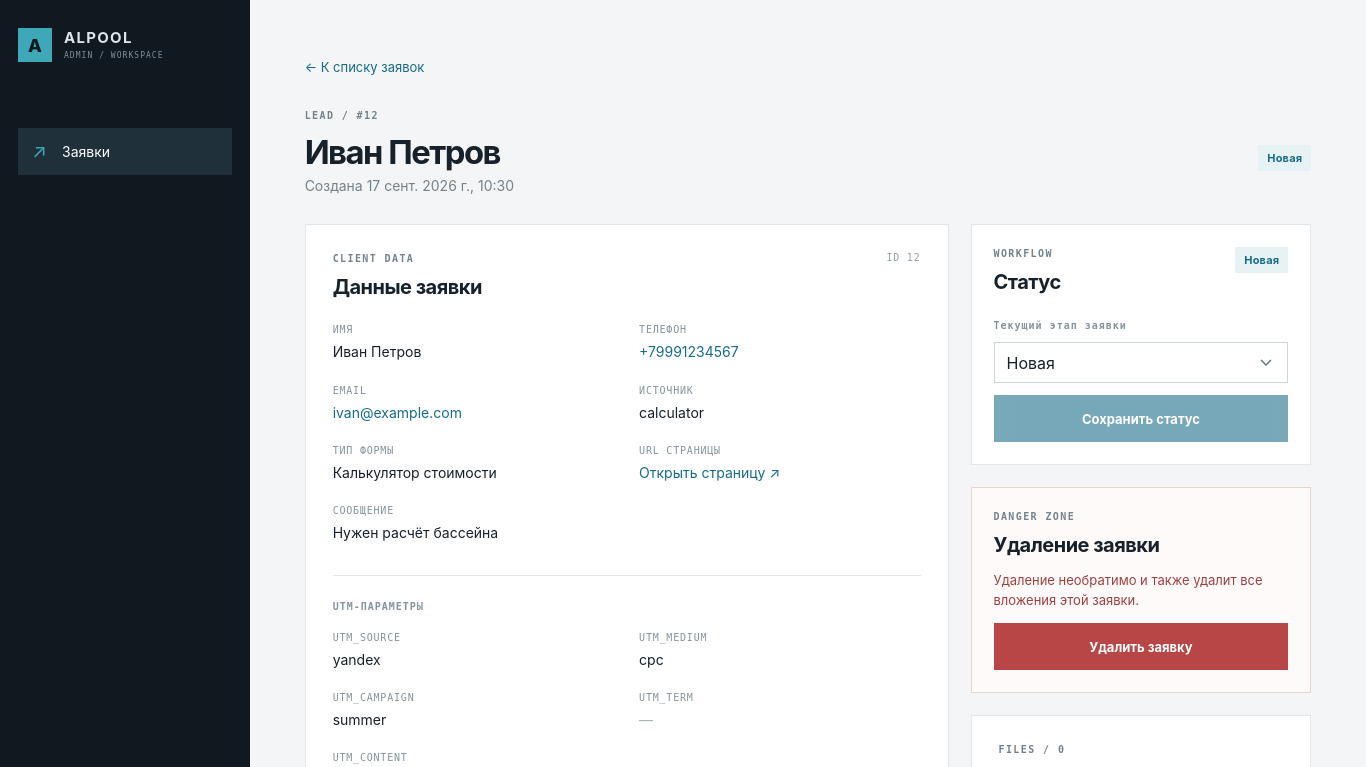
it: lead pages › updates a lead status once and shows confirmation
Expected: the heading "Иван Петров" is shown, [305,135,514,169]
Select "Предложение" in the dropdown labelled "Текущий этап заявки". click: (1141, 363)
box: [994,342,1288,383]
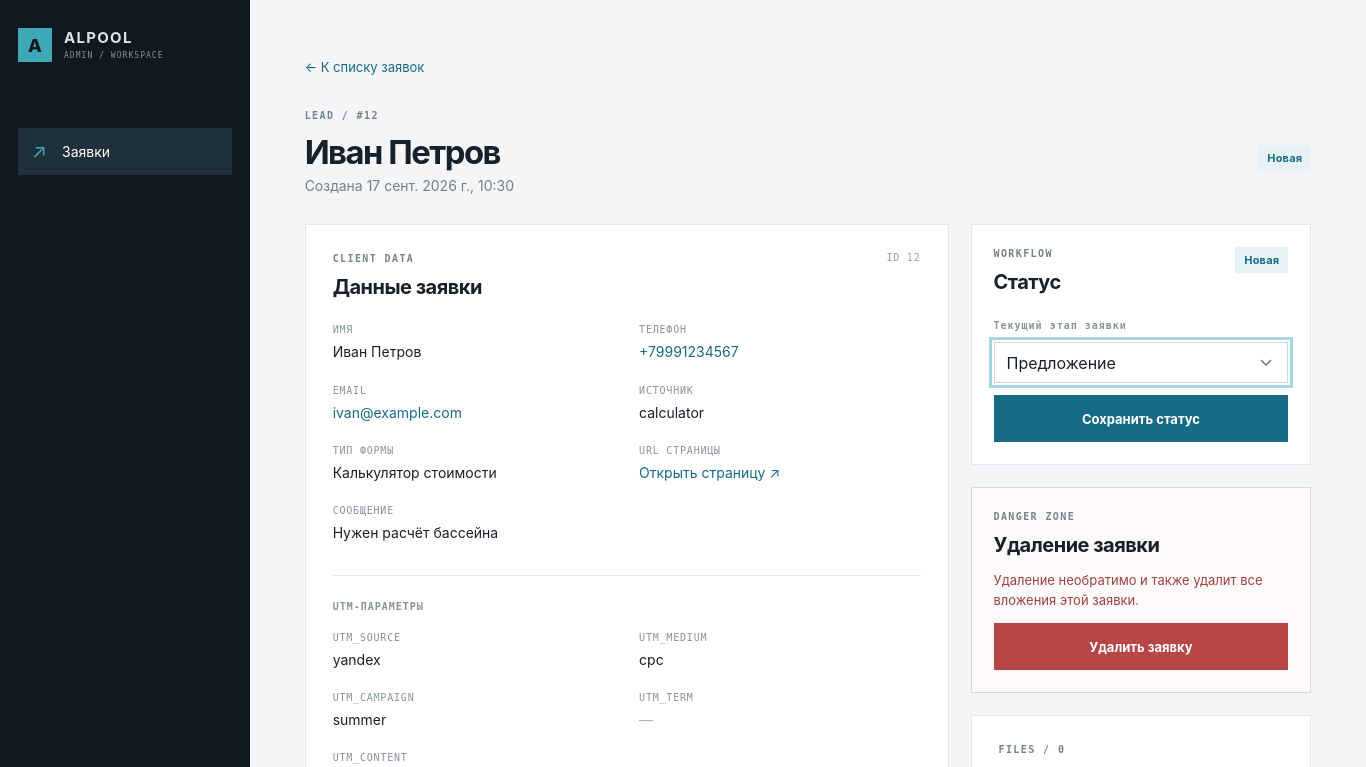
Click the button "Сохранить статус". click: (1141, 419)
box: [994,395,1288,442]
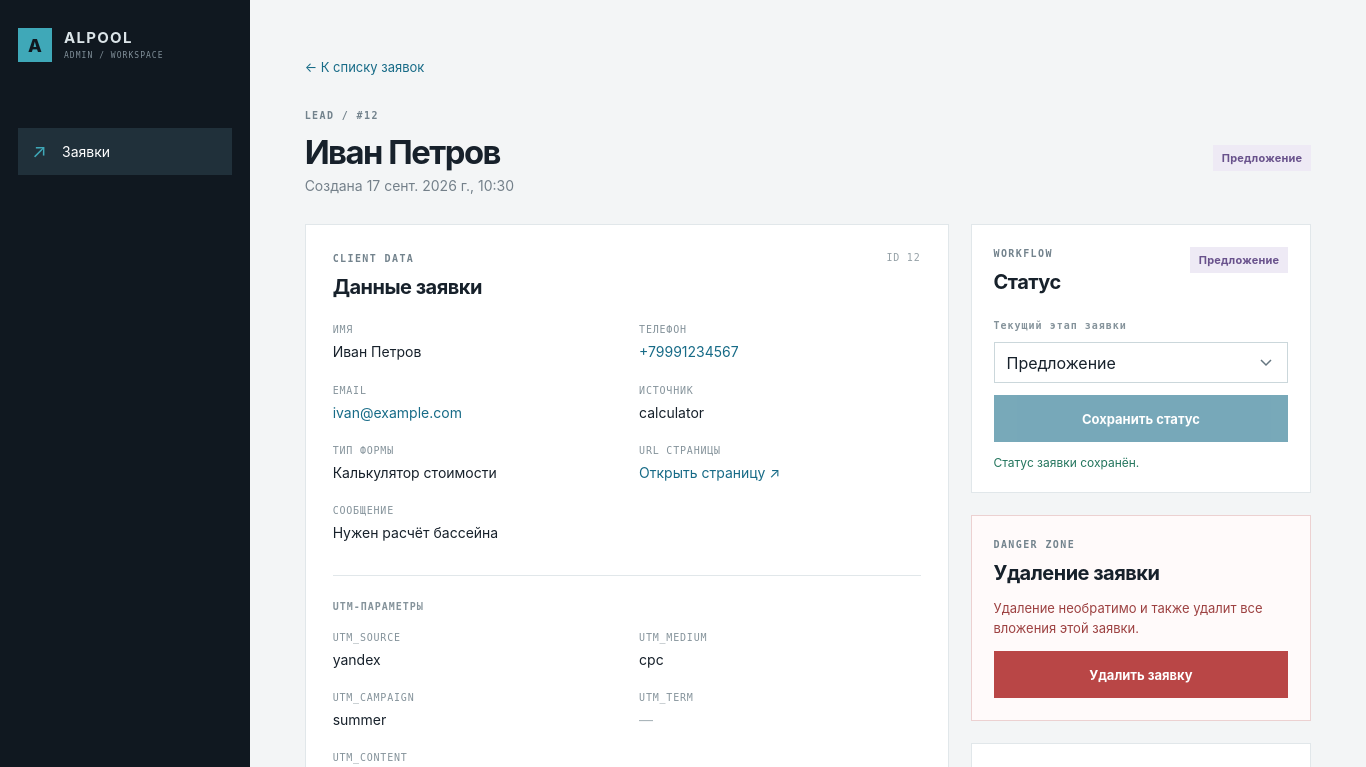
Expected: the message reads "Статус заявки сохранён.", [994,455,1139,470]
